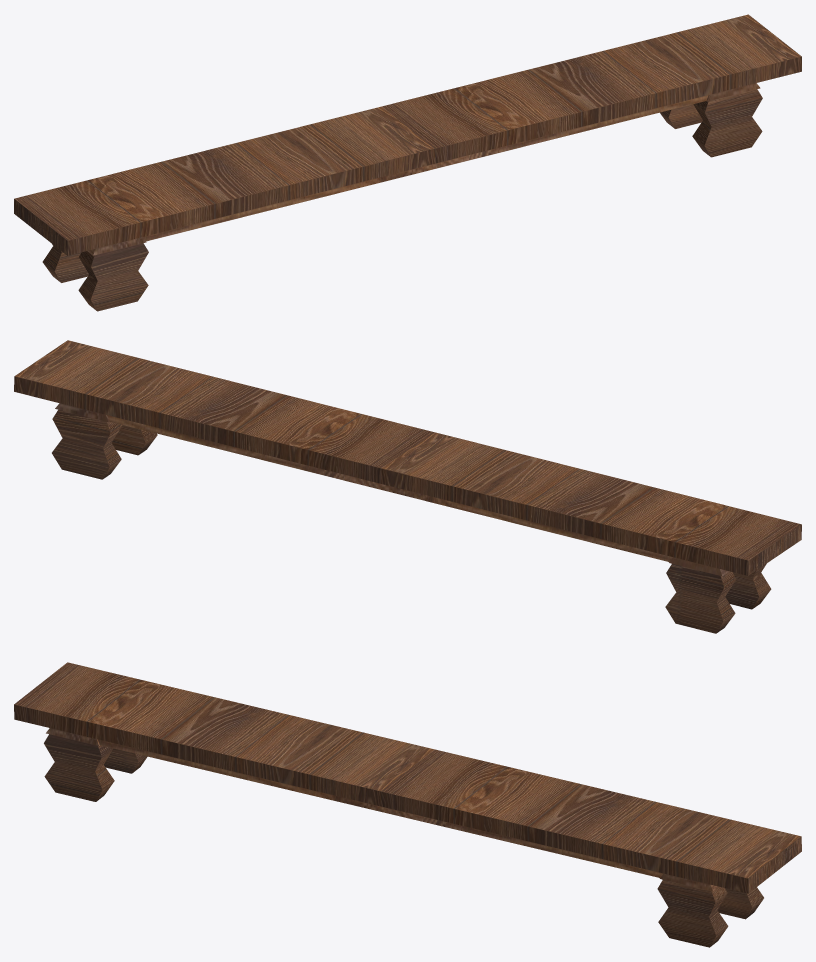
File: panca_lunga.gltf
3 views of the same model, one above another, from view 1: azimuth 30°, elevation 25°; view 2: azimuth 150°, elevation 25°; view 3: azimuth 330°, elevation 25° (orthographic).
Visible parts, largest first — view 1: Box742_temn goriz_0; view 2: Box742_temn goriz_0; view 3: Box742_temn goriz_0.
Boxes of the visible parts, x1,y1,x2,y2 form: Box742_temn goriz_0: [14, 14, 801, 311]; Box742_temn goriz_0: [14, 340, 801, 633]; Box742_temn goriz_0: [14, 662, 801, 947].
Size of the model in its own units: 75.52 by 9.03 by 9.59.
